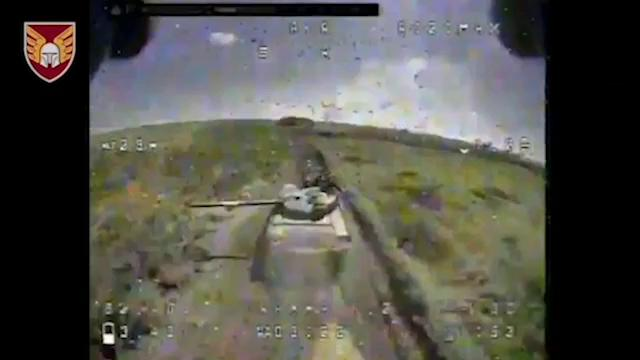tank: (182, 155, 354, 284)
